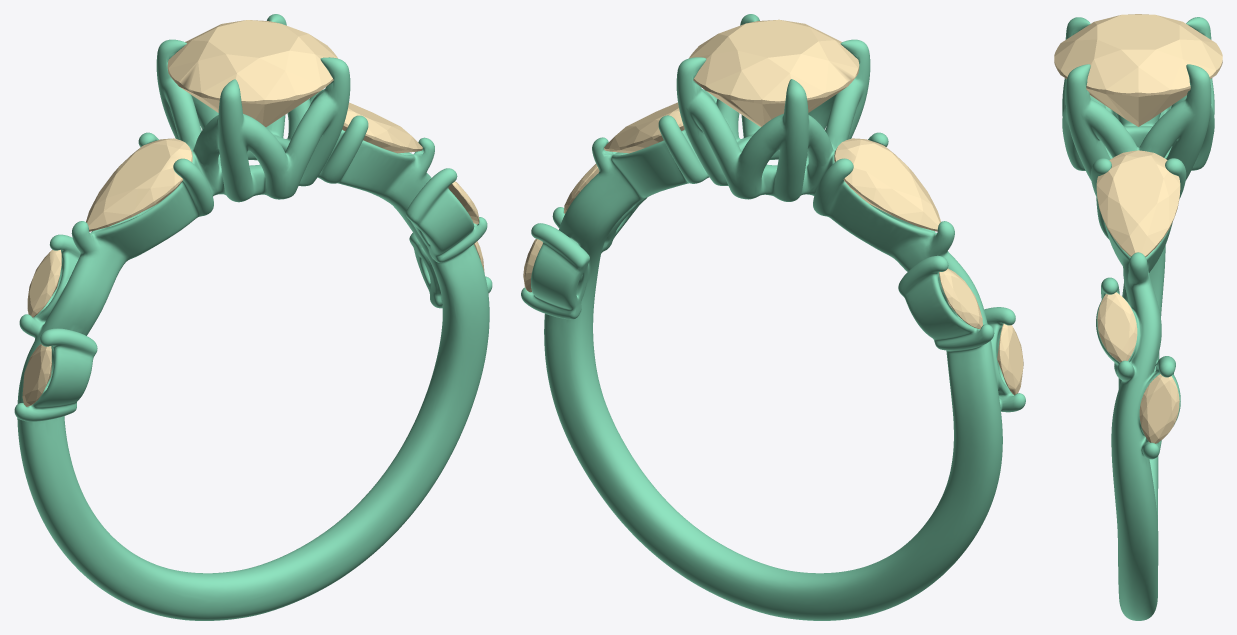
The picture shows the model from 3 angles, left to right: view 1: azimuth 30°, elevation 25°; view 2: azimuth 150°, elevation 25°; view 3: azimuth 270°, elevation 25°; orthographic projection.
Parts seen in each view (by area): view 1: Metal02, Diamond_Round.006, Diamond_Round, Diamond_Round.001, Diamond_Round.004, Diamond_Round.005; view 2: Metal02, Diamond_Round.006, Diamond_Round, Diamond_Round.001, Diamond_Round.004, Diamond_Round.005; view 3: Metal02, Diamond_Round.006, Diamond_Round.001, Diamond_Round.003, Diamond_Round.002.
Part boxes in pixels (x1=…): Metal02: x1=14, y1=14, x2=492, y2=620; Diamond_Round.006: x1=167, y1=20, x2=337, y2=126; Diamond_Round: x1=86, y1=138, x2=192, y2=231; Diamond_Round.001: x1=342, y1=102, x2=422, y2=153; Diamond_Round.004: x1=27, y1=250, x2=61, y2=317; Diamond_Round.005: x1=22, y1=344, x2=51, y2=406; Metal02: x1=521, y1=14, x2=1025, y2=620; Diamond_Round.006: x1=689, y1=19, x2=859, y2=126; Diamond_Round: x1=834, y1=138, x2=940, y2=231; Diamond_Round.001: x1=604, y1=102, x2=684, y2=153; Diamond_Round.004: x1=939, y1=268, x2=982, y2=329; Diamond_Round.005: x1=997, y1=323, x2=1023, y2=395; Metal02: x1=1062, y1=17, x2=1214, y2=620; Diamond_Round.006: x1=1054, y1=14, x2=1222, y2=126; Diamond_Round.001: x1=1096, y1=150, x2=1180, y2=256; Diamond_Round.003: x1=1097, y1=292, x2=1137, y2=362; Diamond_Round.002: x1=1139, y1=374, x2=1179, y2=443.
Size of the model in its own units: 21.41 by 24.01 by 6.5.
